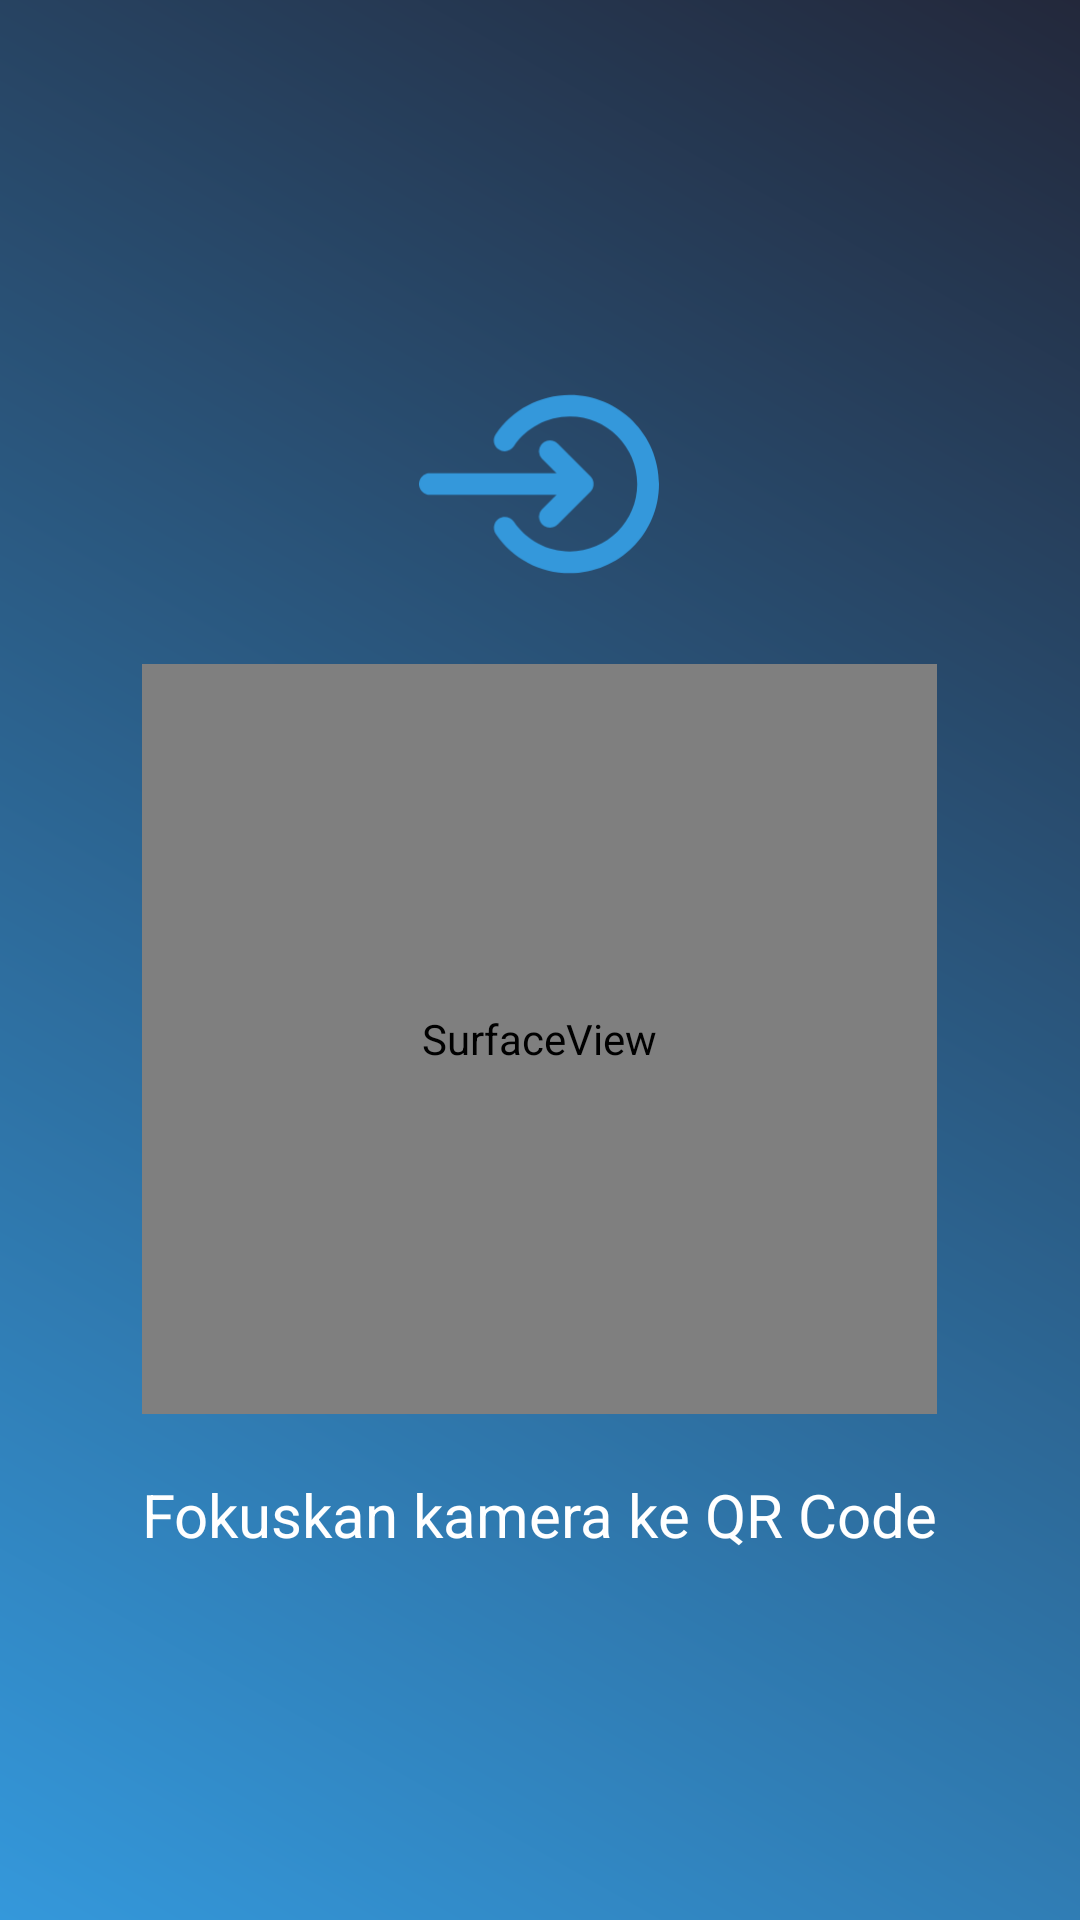

Icon click points for this 1080*1920 phone screenshot, format (x,y):
masuk parkir: (539,484)
